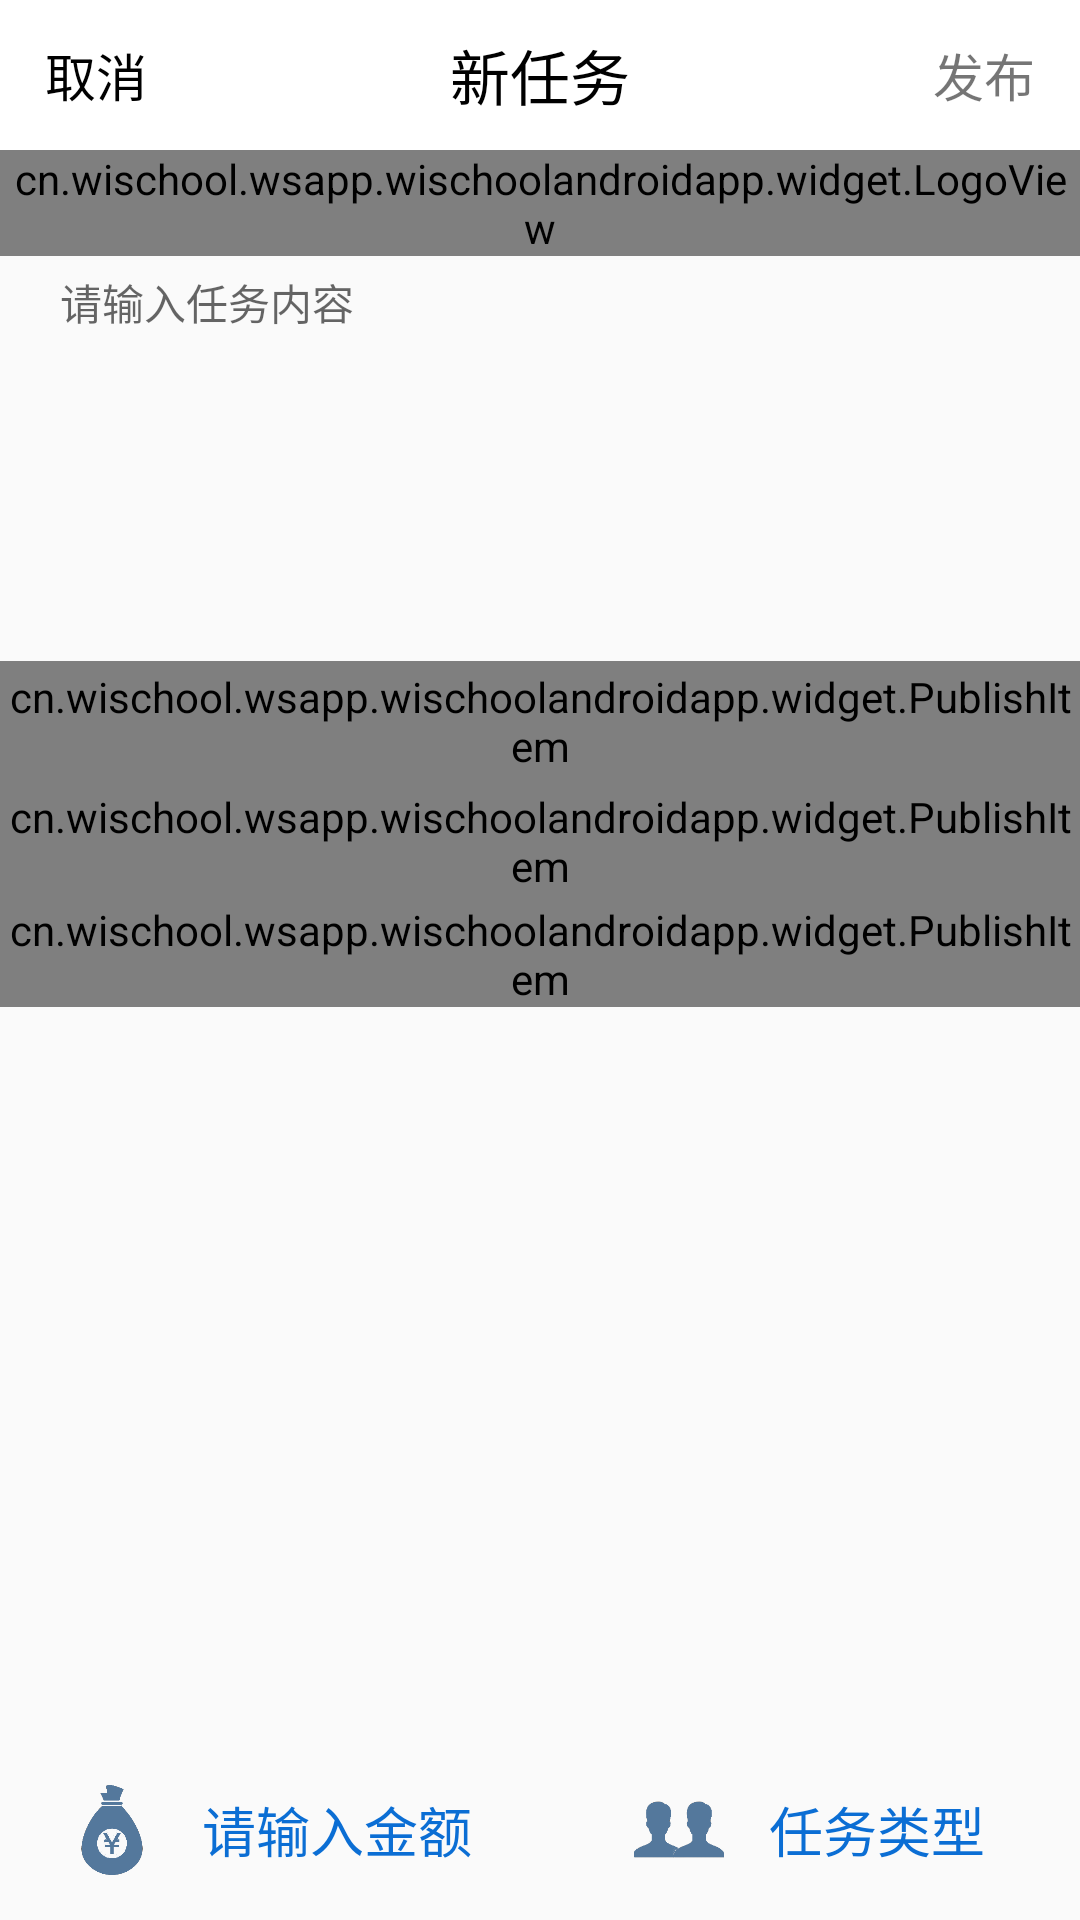

Where icons sit on this 1080x1920 app screen, as (x1, y1, x2, y2):
publish double: (634, 1801, 724, 1858)
publish money: (81, 1785, 143, 1875)
